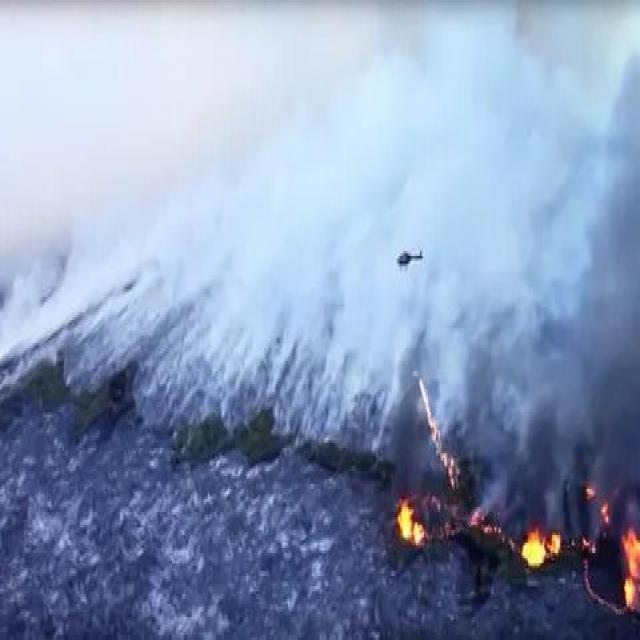Fire: (387, 466, 640, 623)
Smoke: (6, 0, 640, 424)
